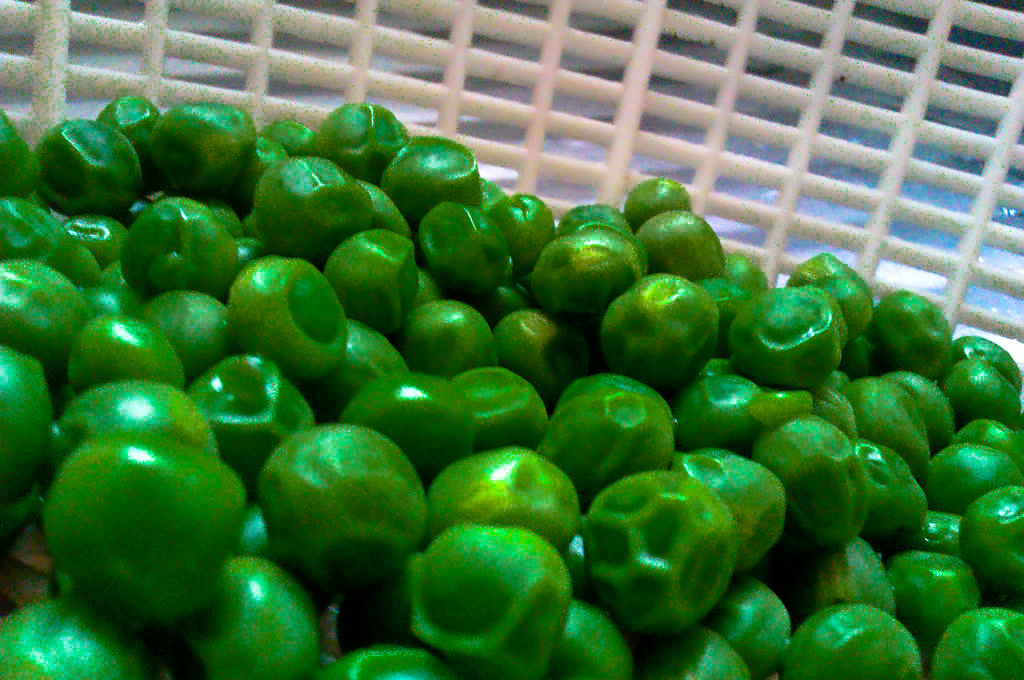boiled peas: (2, 95, 1024, 678)
